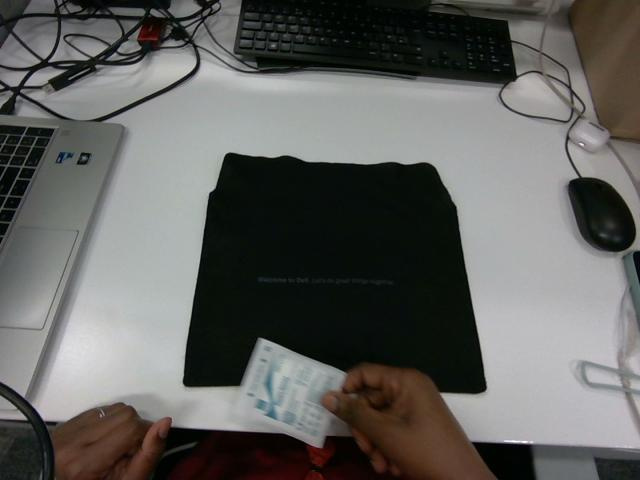gauze: (235, 338, 345, 447)
